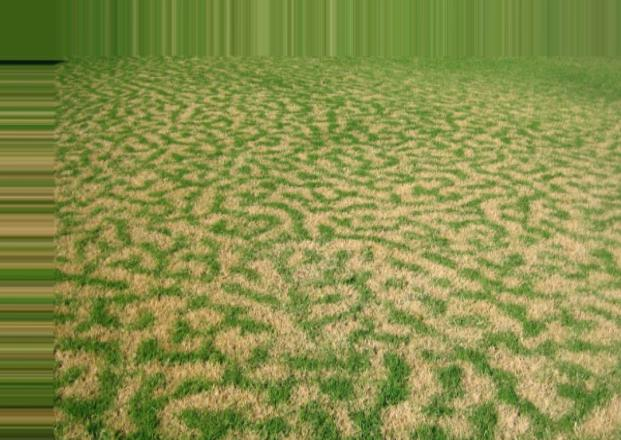patch: (502, 358, 551, 400), (409, 369, 435, 407), (287, 315, 309, 359), (127, 268, 157, 291), (221, 329, 245, 353), (150, 320, 168, 348), (107, 411, 132, 427), (207, 396, 229, 413), (355, 255, 377, 272), (155, 300, 176, 314), (160, 419, 176, 436), (387, 265, 407, 276), (169, 368, 188, 378), (311, 213, 324, 225), (264, 267, 274, 278)
